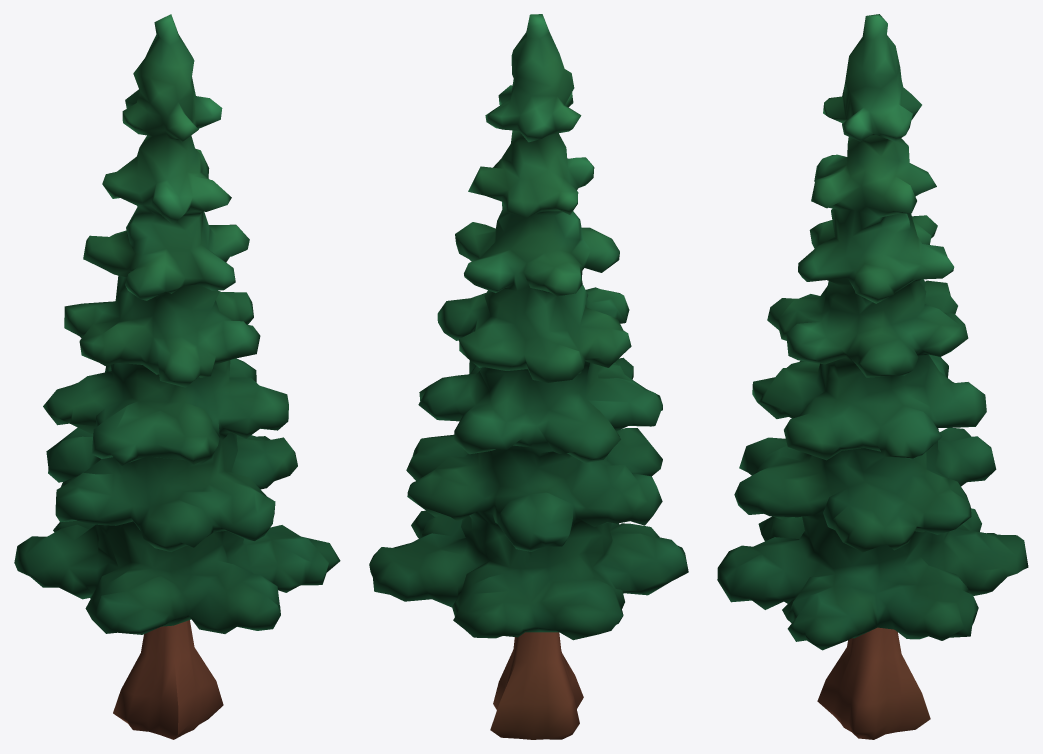
File: tree-cedar.glb
3 views of the same model, side by side, from view 1: azimuth 30°, elevation 25°; view 2: azimuth 150°, elevation 25°; view 3: azimuth 270°, elevation 25° (orthographic).
Visible parts, largest first — view 1: Cedar Needles, Cedar Bark; view 2: Cedar Needles, Cedar Bark; view 3: Cedar Needles, Cedar Bark.
Part boxes in pixels (left/top/right/bottom): Cedar Needles: left=14, top=14, right=340, bottom=634; Cedar Bark: left=113, top=620, right=223, bottom=739; Cedar Needles: left=369, top=14, right=688, bottom=640; Cedar Bark: left=490, top=632, right=583, bottom=739; Cedar Needles: left=717, top=14, right=1028, bottom=650; Cedar Bark: left=817, top=627, right=930, bottom=739.
Bounding box in the file's own units: 4.73 × 12.43 × 4.95.
